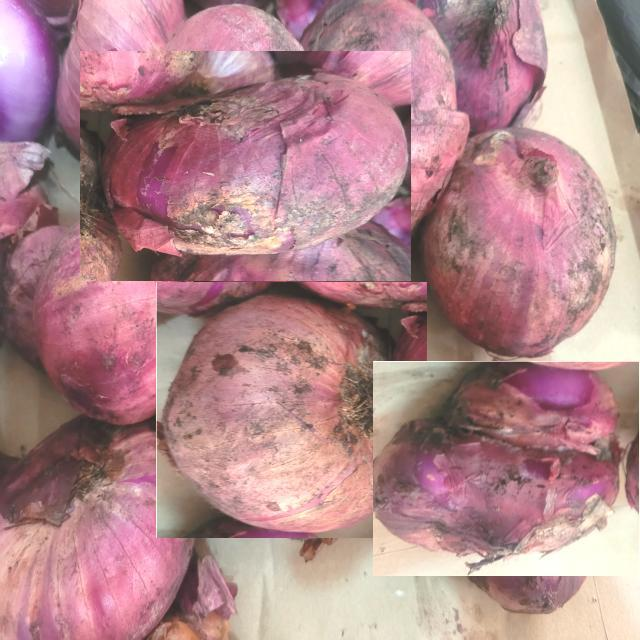rotten: (104, 71, 406, 257), (375, 422, 617, 563), (72, 2, 295, 112), (2, 415, 132, 545), (444, 366, 622, 457), (447, 0, 545, 131), (104, 113, 204, 236), (33, 232, 121, 326), (74, 144, 129, 282), (172, 545, 237, 638), (8, 226, 71, 314), (0, 138, 52, 238), (74, 0, 178, 49), (308, 0, 423, 38), (275, 0, 323, 42), (396, 315, 426, 363)
sprouting: (163, 296, 374, 528), (428, 130, 608, 348), (39, 278, 154, 424), (304, 1, 451, 108)
